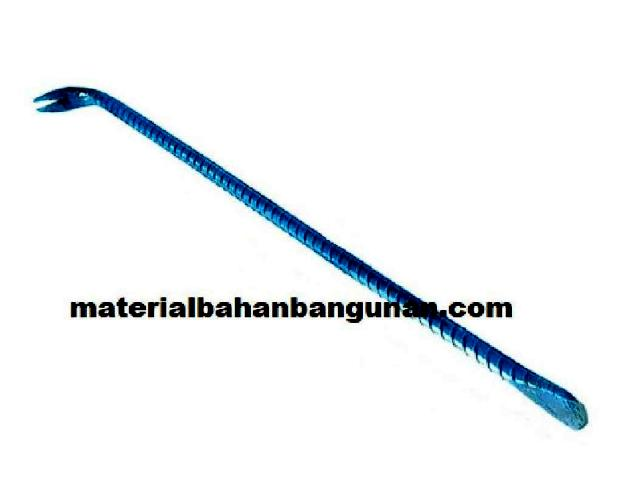crow bar: (30, 81, 590, 434)
